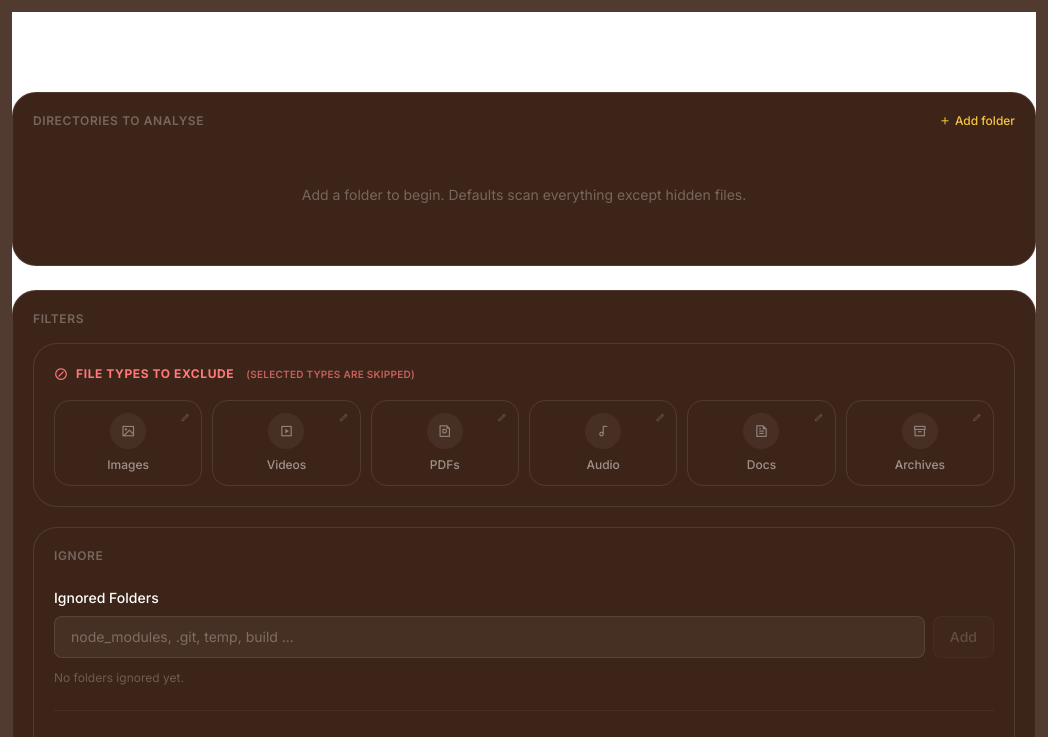
Test: AnalysisView › resets per-folder counts when a new analysis starts
Click the button "Add folder": (977, 121) [939, 113, 1015, 129]
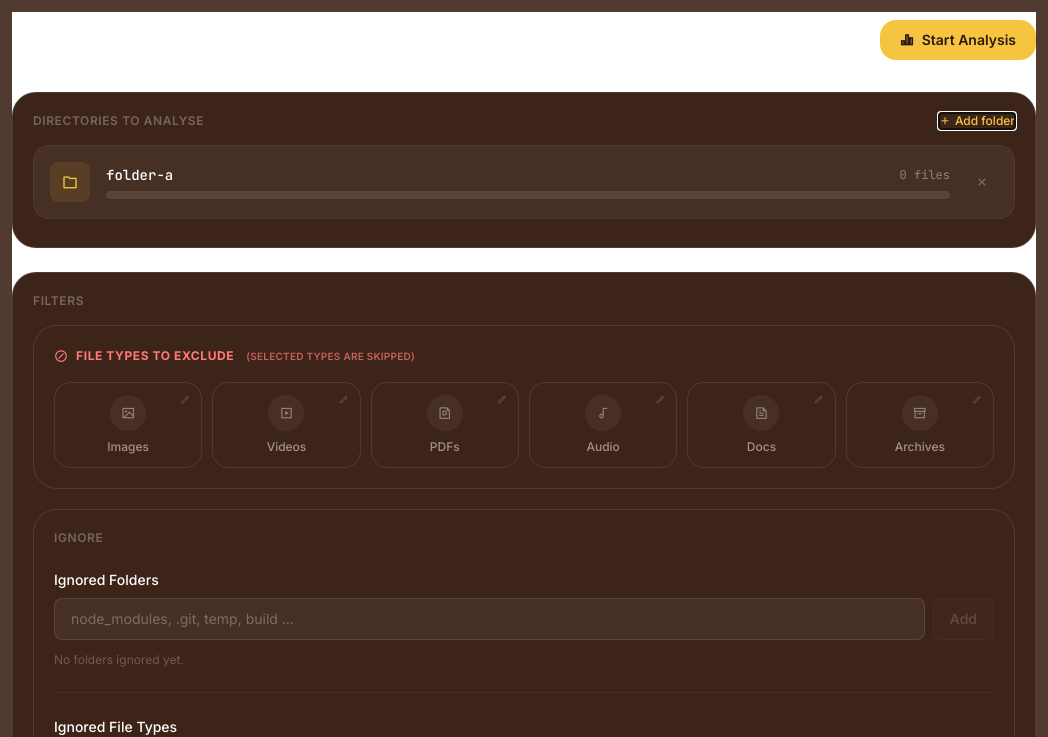
Click the button "Start Analysis": (958, 40) [880, 20, 1036, 60]
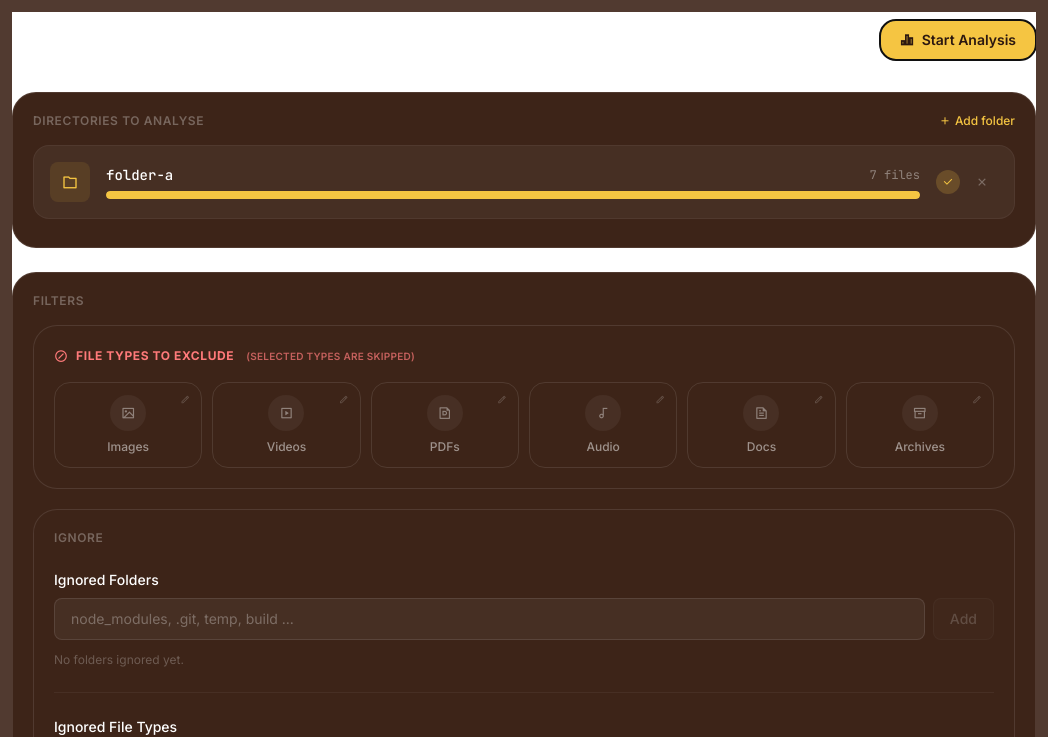
expect the text "7 files" is shown: met, box [870, 167, 920, 183]
Click the button "Start Analysis": (958, 40) [880, 20, 1036, 60]
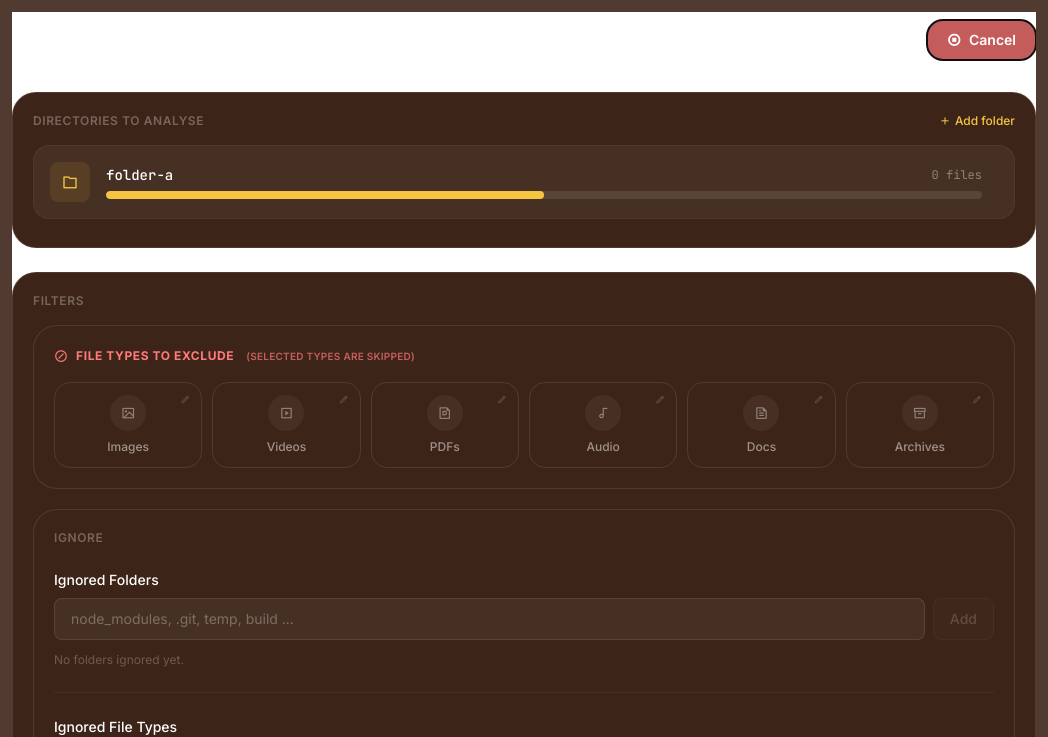
expect the text "0 files" is shown: met, box [932, 167, 982, 183]
expect the text "7 files" is gone: met
